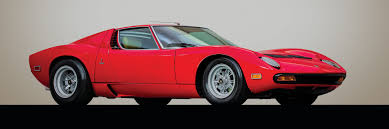car: (18, 13, 355, 121)
